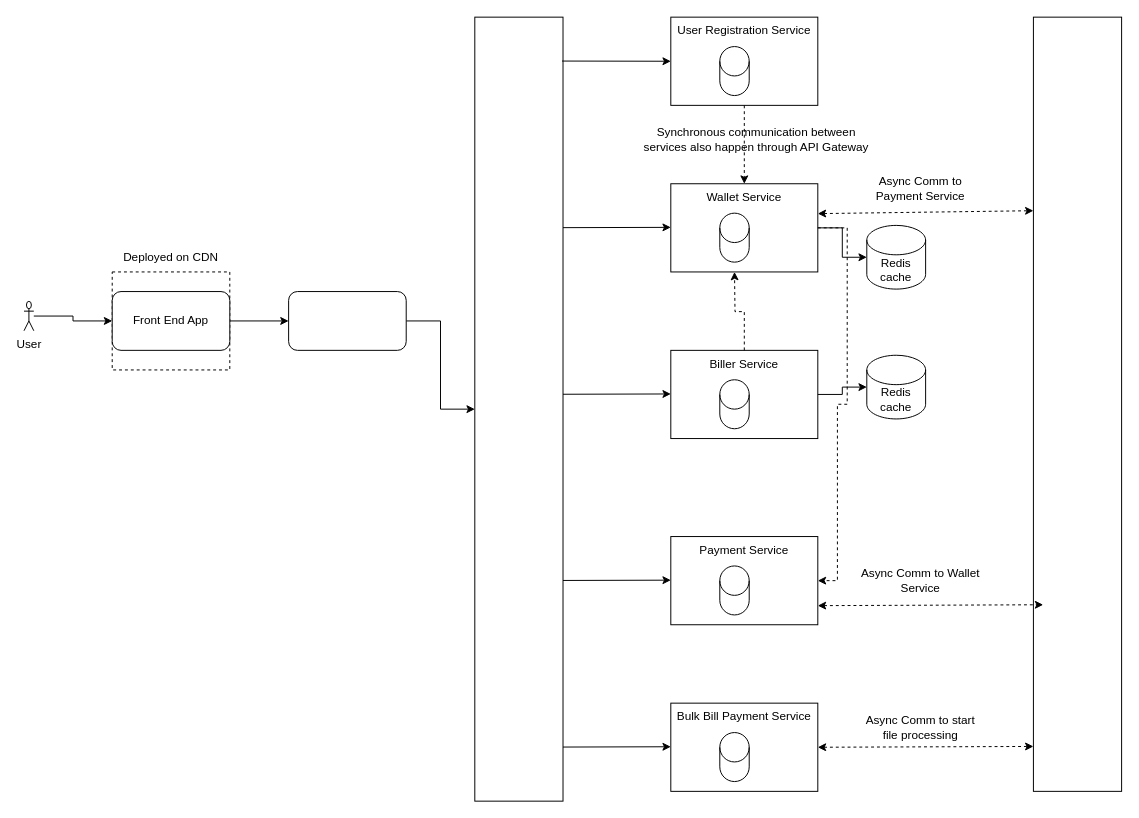
Image size: 1139x818. Some labels were removed from this diagram. The shapes that lost their labels are listed below. From the top down, each one's centre as x and y in pixels, then its label:
At (347,320): "WAF".
At (518,408): "API Gateway".
At (1077,403): "Kafka".
